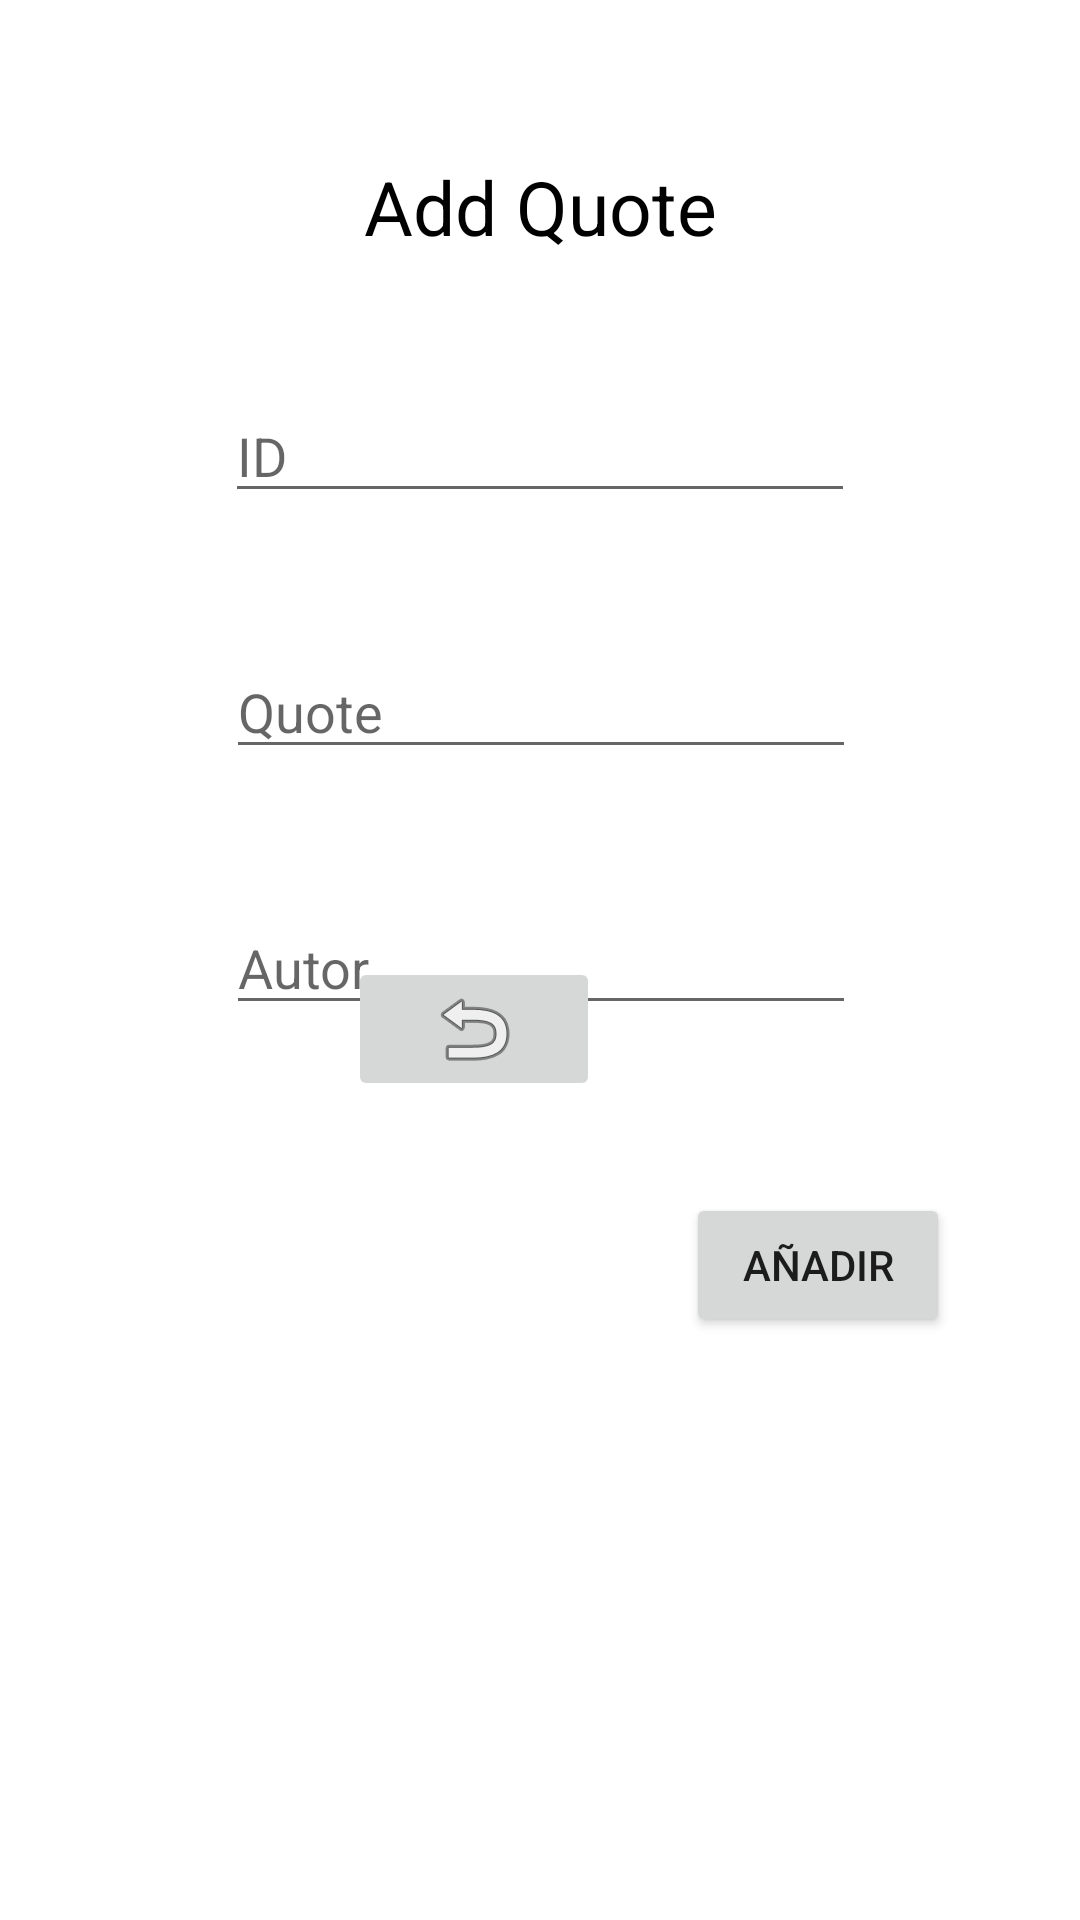

Where icons sit on this 1080 × 1920 app screen, as (x1, y1, x2, y2):
revert: (348, 960, 600, 1083)
